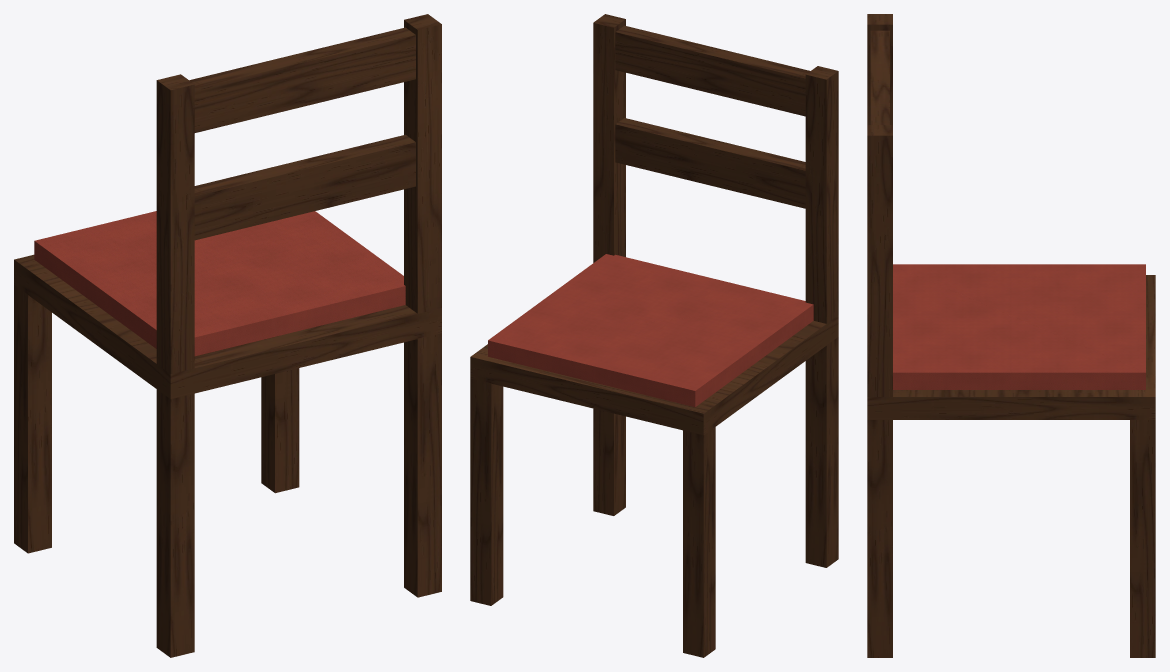
3 views of the same model, side by side, from view 1: azimuth 30°, elevation 25°; view 2: azimuth 150°, elevation 25°; view 3: azimuth 270°, elevation 25° (orthographic). The views are drawn at different scales.
Visible parts, largest first — view 1: DiningChair_Game; view 2: DiningChair_Game; view 3: DiningChair_Game.
Part boxes in pixels (x1,y1,x2,y2): DiningChair_Game: (14, 14, 441, 657); DiningChair_Game: (470, 14, 838, 657); DiningChair_Game: (867, 14, 1155, 657).
Size of the model in its own units: 0.45 by 0.9 by 0.45.
2 materials, 2 textured.
